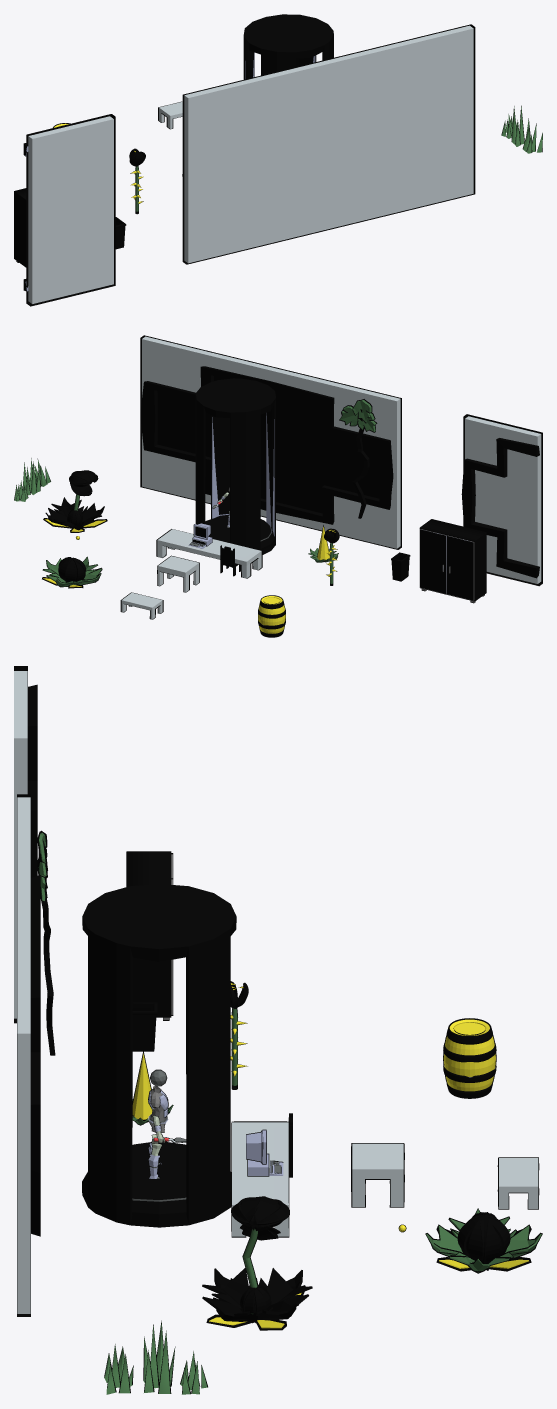
File: Budding6_grass_barrel_teleporter.fbx
3 renders of one model, top to bottom at view 1: azimuth 30°, elevation 25°; view 2: azimuth 150°, elevation 25°; view 3: azimuth 270°, elevation 25°, orthographic. The views are drawn at different scales.
Parts seen in each view (by area): view 1: wall panel, door_half, Cylinder.002, cabinet, table3, Grass_05; view 2: wall panel, Cylinder.002, door_half, cabinet, table1, flower.001, Cylinder.001, peashooter_base, table2, peashooter_rotate, bud_base, table3 (+5 smaller); view 3: Cylinder.002, wall panel, door_half, table1, peashooter_base, Cylinder.001, cabinet, peashooter_rotate, table2, bud_base, bud_bud, table3 (+6 smaller).
Part boxes in pixels (left/top/right/bottom): wall panel: left=182, top=24, right=475, bottom=264; door_half: left=23, top=114, right=115, bottom=306; Cylinder.002: left=243, top=14, right=333, bottom=79; cabinet: left=14, top=188, right=26, bottom=267; table3: left=158, top=101, right=182, bottom=129; Grass_05: left=511, top=105, right=530, bottom=146; wall panel: left=140, top=335, right=401, bottom=549; Cylinder.002: left=195, top=378, right=275, bottom=554; door_half: left=461, top=414, right=542, bottom=586; cabinet: left=419, top=519, right=486, bottom=603; table1: left=156, top=529, right=262, bottom=578; flower.001: left=339, top=399, right=377, bottom=518; Cylinder.001: left=258, top=595, right=285, bottom=637; peashooter_base: left=45, top=497, right=104, bottom=530; table2: left=157, top=555, right=199, bottom=592; peashooter_rotate: left=43, top=470, right=107, bottom=532; bud_base: left=42, top=556, right=102, bottom=587; table3: left=120, top=592, right=163, bottom=619; Cylinder.002: left=82, top=884, right=236, bottom=1227; wall panel: left=17, top=794, right=40, bottom=1316; door_half: left=14, top=666, right=37, bottom=1023; table1: left=231, top=1121, right=289, bottom=1237; peashooter_base: left=202, top=1268, right=312, bottom=1322; Cylinder.001: left=443, top=1018, right=496, bottom=1098; cabinet: left=126, top=851, right=173, bottom=1020; peashooter_rotate: left=206, top=1196, right=305, bottom=1330; table2: left=351, top=1143, right=404, bottom=1207; bud_base: left=425, top=1208, right=542, bottom=1273; bud_bud: left=457, top=1212, right=510, bottom=1263; table3: left=497, top=1157, right=539, bottom=1209.
Size of the model in its own units: 1715 by 514 by 855.
